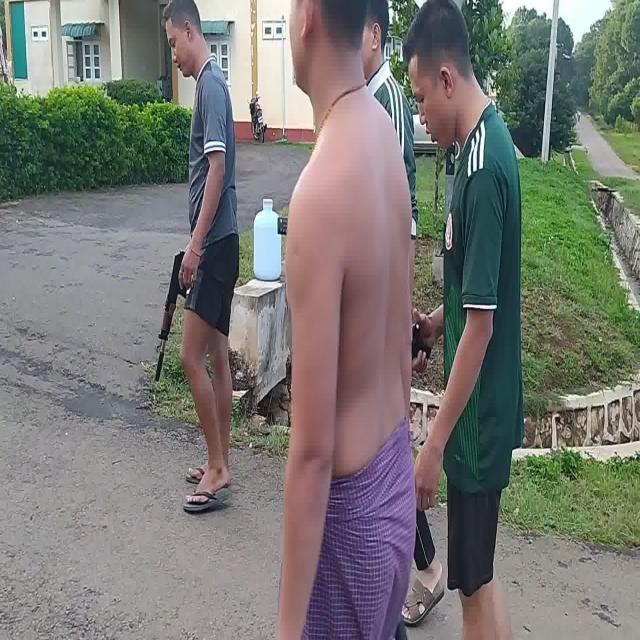gun: (155, 255, 187, 383), (412, 329, 430, 368)
